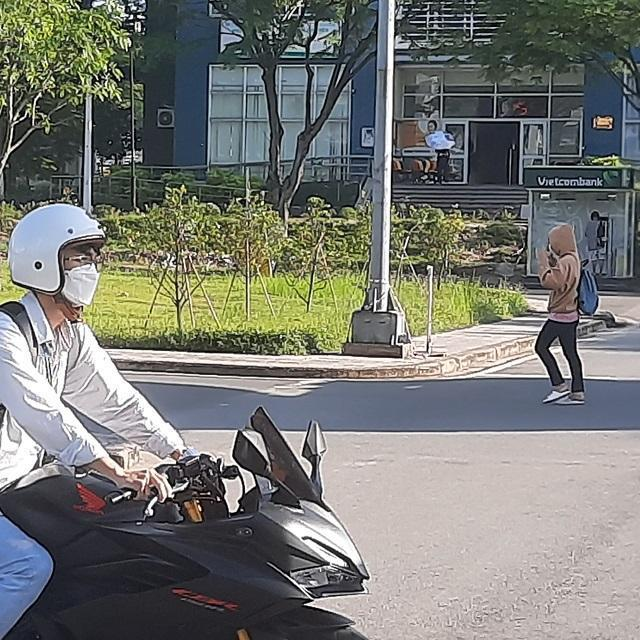Helmet: (8, 200, 112, 312)
